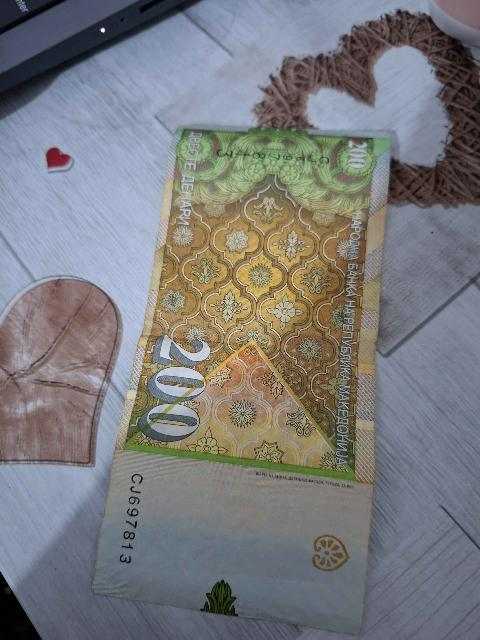200_note: (94, 130, 389, 632)
